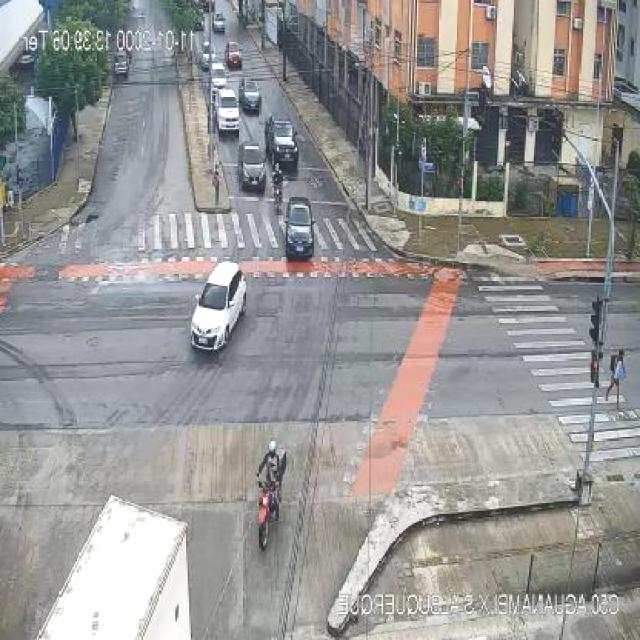Car: (188, 262, 249, 356), (284, 197, 316, 260), (263, 117, 298, 169), (238, 141, 268, 190), (216, 88, 241, 133), (238, 80, 262, 113), (113, 51, 131, 78), (225, 41, 242, 69), (210, 61, 226, 85), (212, 13, 226, 33)
Cycle: (254, 438, 288, 548)
Truck: (35, 493, 191, 640)
